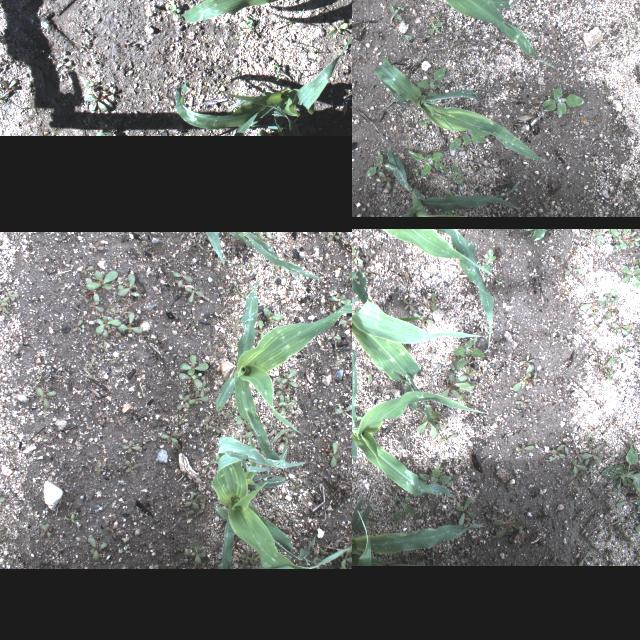crop: (214, 285, 352, 468), (352, 347, 490, 497), (352, 243, 484, 392), (352, 145, 622, 217), (174, 27, 352, 134), (372, 55, 548, 163), (211, 436, 352, 568), (380, 228, 494, 348), (376, 0, 553, 65), (352, 497, 483, 564), (227, 231, 323, 279), (204, 232, 226, 264), (347, 231, 352, 278)
weed: (600, 441, 640, 498), (541, 88, 581, 119), (407, 150, 447, 176), (454, 338, 486, 370), (82, 84, 116, 112), (417, 404, 445, 436), (441, 373, 477, 397), (418, 65, 446, 95), (82, 269, 118, 291), (178, 352, 208, 376), (493, 520, 529, 540), (94, 314, 120, 340), (116, 310, 144, 334), (114, 272, 140, 296), (184, 538, 206, 566), (394, 494, 416, 522), (450, 134, 488, 150), (593, 357, 617, 381), (276, 366, 298, 392), (86, 536, 108, 562), (80, 276, 100, 304), (456, 498, 476, 526), (418, 468, 450, 484), (618, 264, 640, 287), (362, 154, 383, 178), (183, 492, 207, 510), (610, 316, 634, 334), (393, 552, 427, 564), (446, 164, 466, 184), (37, 388, 57, 408), (174, 270, 194, 290), (584, 432, 604, 452), (608, 228, 628, 248), (278, 394, 296, 416), (595, 290, 619, 306), (376, 170, 394, 190), (263, 306, 283, 324), (622, 228, 640, 247), (328, 440, 340, 468), (178, 372, 202, 386), (326, 293, 350, 307), (579, 230, 603, 244), (523, 228, 547, 242), (548, 444, 566, 462), (512, 372, 530, 390), (187, 390, 210, 404), (166, 2, 182, 22), (185, 286, 205, 302), (336, 547, 352, 567), (483, 246, 497, 268), (578, 302, 600, 316), (424, 20, 442, 36), (86, 238, 106, 252), (386, 3, 402, 20), (194, 381, 210, 397), (400, 296, 416, 312), (444, 472, 460, 488), (616, 527, 632, 543), (328, 22, 348, 34), (121, 440, 141, 452), (160, 432, 180, 444), (564, 263, 584, 275), (334, 403, 352, 416), (352, 246, 363, 267), (2, 80, 18, 94), (176, 394, 190, 410), (451, 392, 473, 402), (438, 432, 460, 442), (514, 444, 536, 454), (64, 512, 82, 524), (2, 289, 20, 301), (600, 308, 618, 320), (614, 500, 640, 508), (414, 313, 434, 323), (602, 519, 622, 529), (573, 448, 591, 459), (126, 460, 140, 474), (422, 344, 436, 358), (578, 550, 592, 564), (572, 458, 588, 470), (586, 454, 602, 466), (338, 315, 352, 328), (513, 394, 531, 404), (0, 30, 13, 43), (417, 117, 431, 129), (40, 523, 52, 537), (572, 470, 584, 484), (612, 343, 630, 352), (397, 32, 413, 42), (326, 330, 342, 340), (367, 368, 375, 388), (520, 354, 536, 364), (95, 128, 114, 136), (78, 266, 96, 274), (429, 292, 437, 310), (589, 425, 601, 437), (0, 300, 10, 314), (0, 494, 7, 513), (56, 58, 72, 66), (242, 17, 254, 27), (465, 367, 477, 377), (493, 506, 505, 516), (94, 460, 102, 474), (326, 231, 340, 239), (636, 506, 640, 534), (450, 364, 460, 374), (562, 338, 572, 348), (532, 373, 540, 385), (414, 510, 421, 522), (352, 258, 361, 267), (506, 509, 514, 519), (592, 323, 600, 333), (633, 256, 640, 267), (566, 445, 570, 463), (272, 63, 280, 71), (612, 244, 620, 252), (414, 168, 421, 176), (443, 189, 451, 195), (526, 365, 534, 371), (0, 95, 4, 104), (398, 5, 404, 11), (28, 81, 32, 89)
